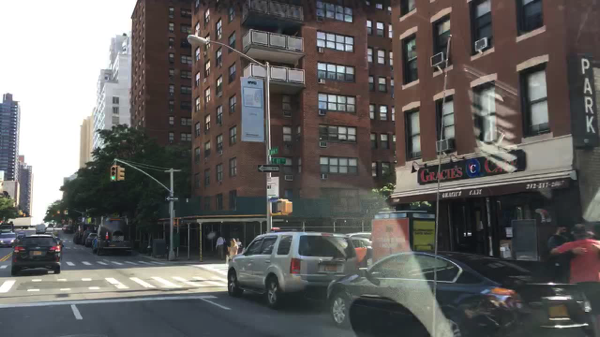car: (327, 251, 594, 336), (227, 232, 358, 309), (10, 234, 65, 275), (92, 217, 133, 255), (351, 239, 372, 269), (0, 232, 18, 247), (81, 229, 97, 245), (345, 233, 372, 239), (85, 234, 96, 247), (0, 224, 14, 234), (63, 225, 74, 234), (73, 232, 82, 243), (18, 232, 27, 240), (61, 224, 70, 230), (48, 222, 55, 228)
person: (551, 223, 599, 336), (552, 232, 599, 264), (547, 226, 571, 264), (215, 235, 226, 260), (228, 238, 238, 255), (236, 237, 242, 248)
traffic light: (275, 199, 292, 213), (117, 166, 125, 181), (110, 164, 117, 181), (174, 219, 178, 227), (63, 210, 68, 214), (57, 210, 61, 215)
traffic sign: (267, 176, 279, 201), (258, 165, 279, 172), (272, 158, 285, 164), (166, 197, 180, 201), (270, 148, 278, 155)
truck: (8, 217, 35, 229), (36, 224, 45, 234)
